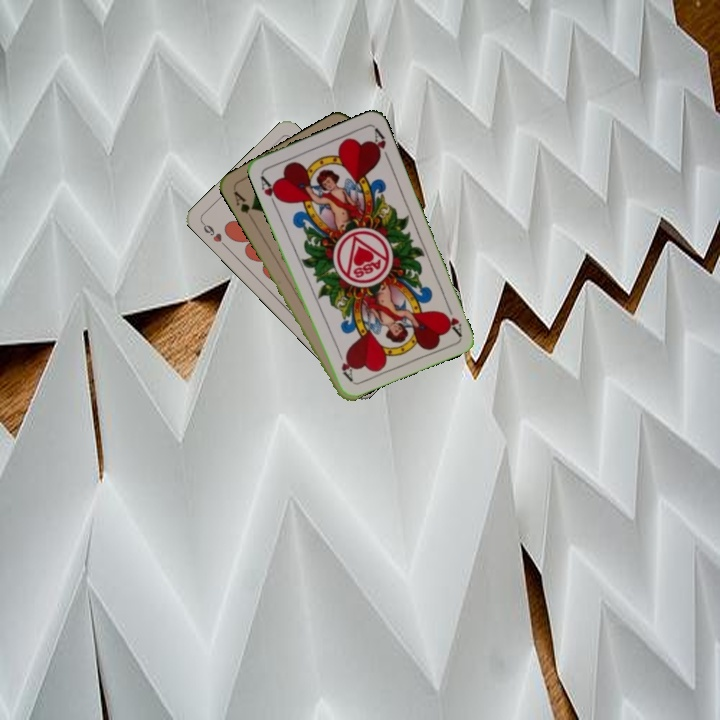GA: (229, 186, 257, 223)
H9: (198, 219, 230, 251)
HA: (257, 171, 284, 209), (439, 299, 465, 338)
